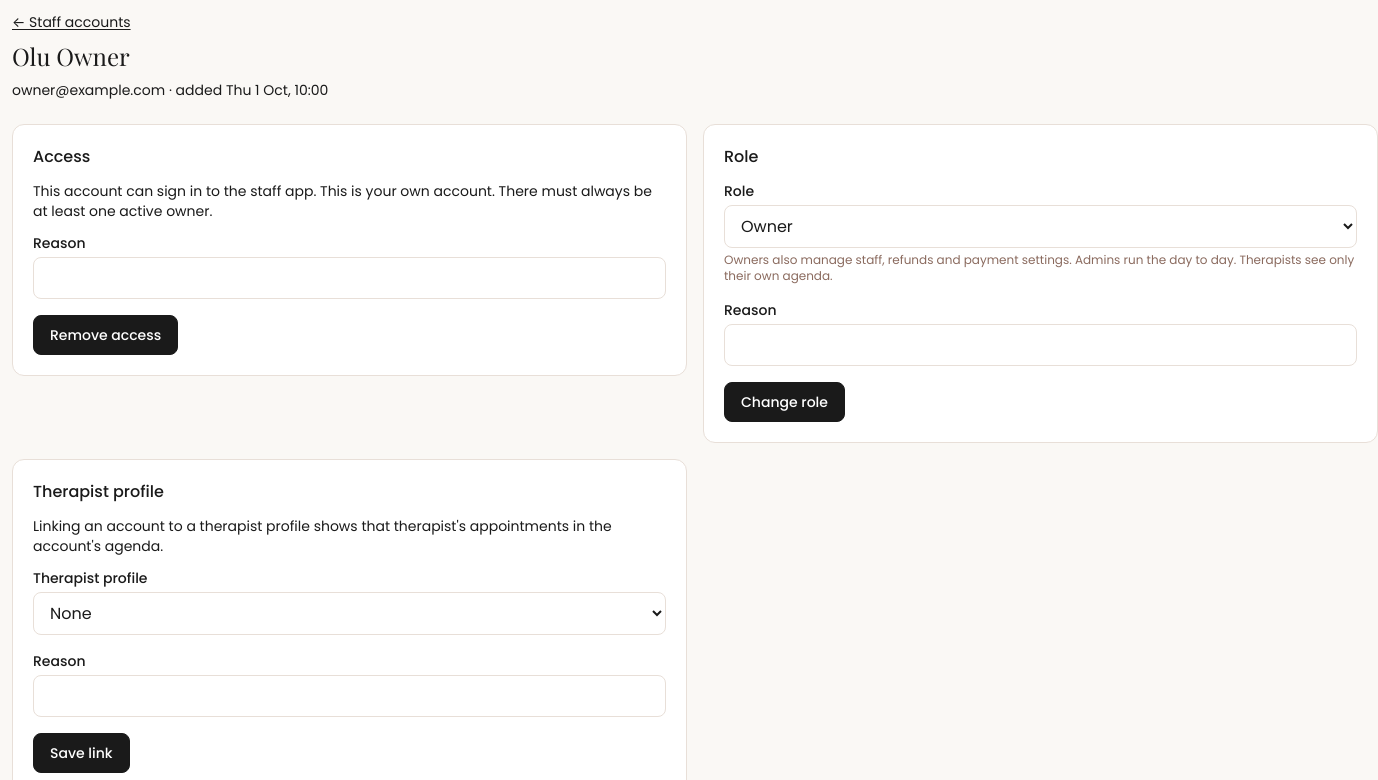
Test: staff accounts (owner) › the last-owner refusal is explained
The width and height of the screenshot is (1378, 780).
Expected: the text "This is your own account" is shown, top-left (33, 181), bottom-right (652, 221)
Type "Leaving" into the 1st field labelled "Reason".
click(350, 278); type("Leaving")  # box top-left (33, 257), bottom-right (666, 299)
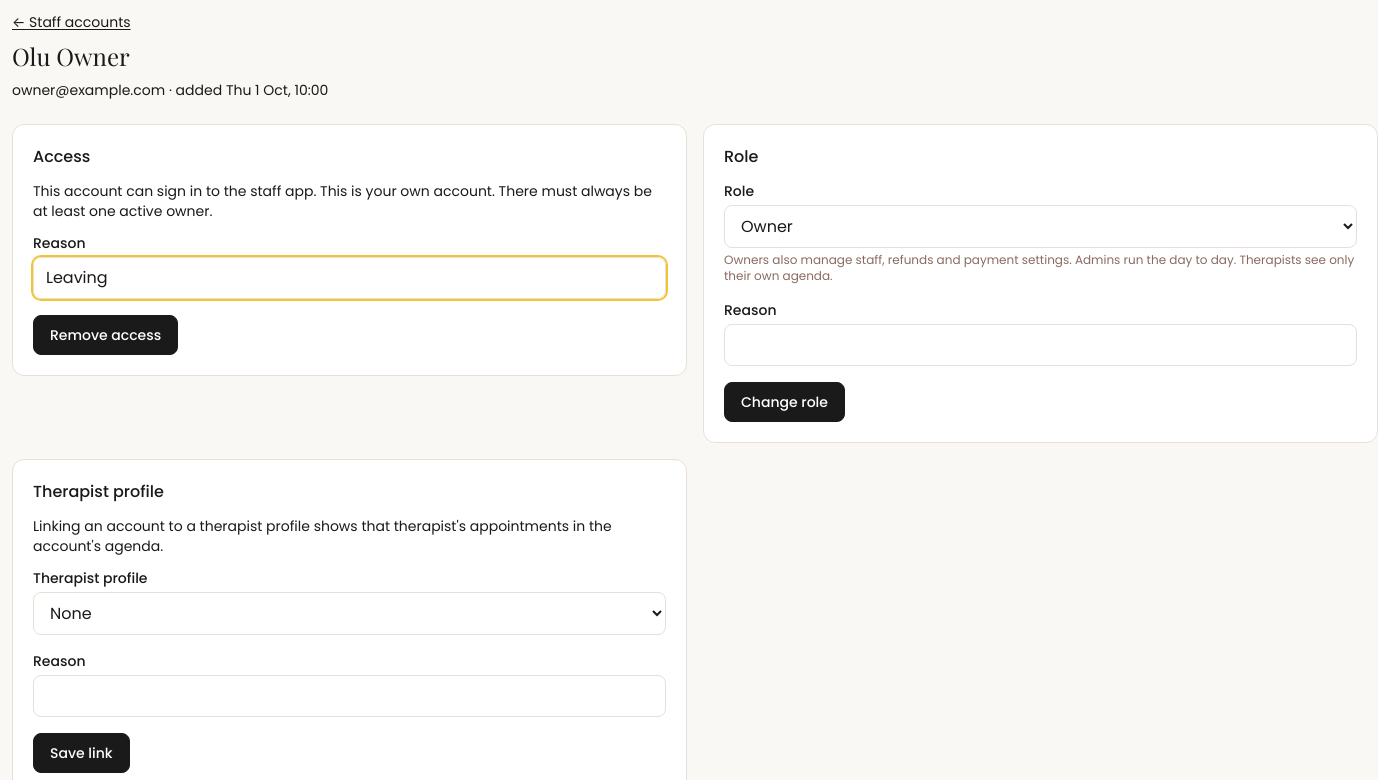
Click the button "Remove access".
click(106, 335)  # box top-left (33, 315), bottom-right (178, 355)
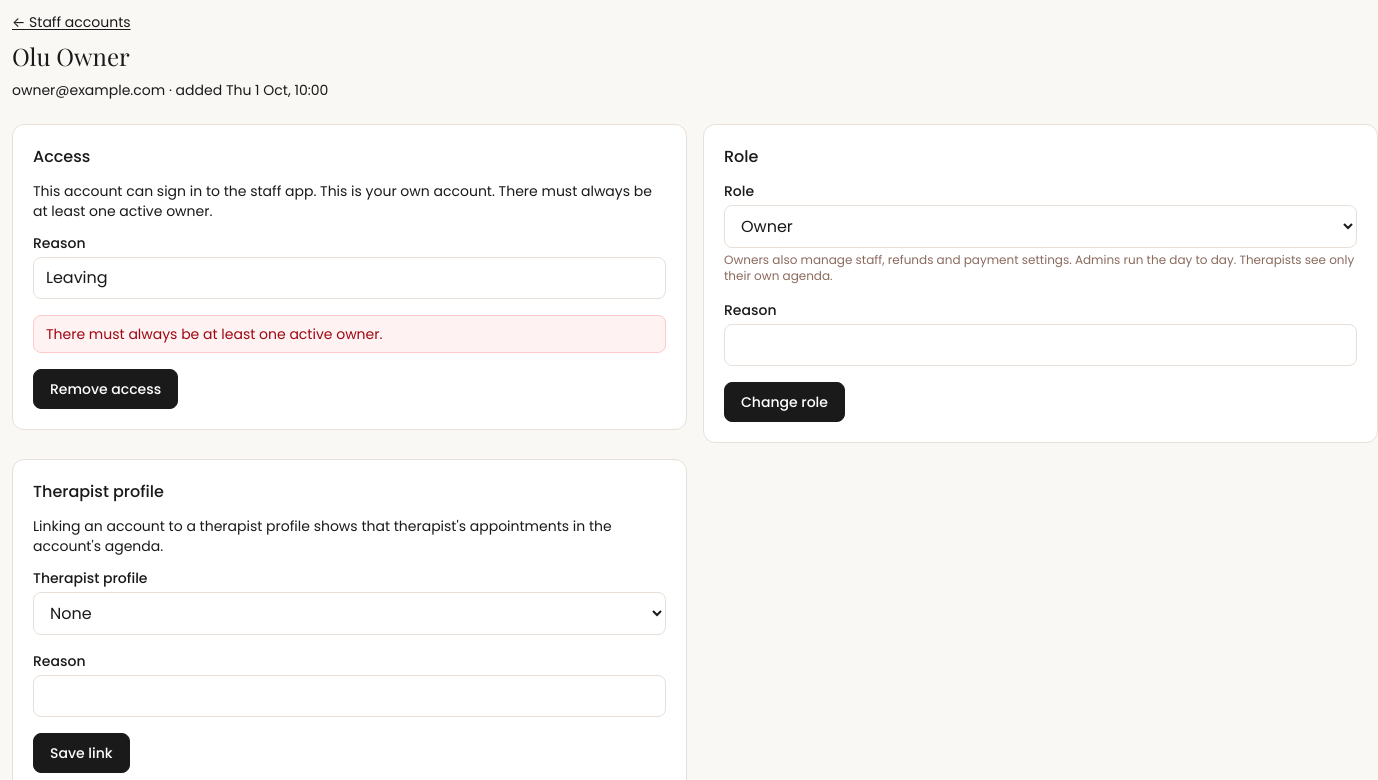
Expected: the message reads "There must always be at least one active owner.", top-left (46, 324), bottom-right (382, 344)
